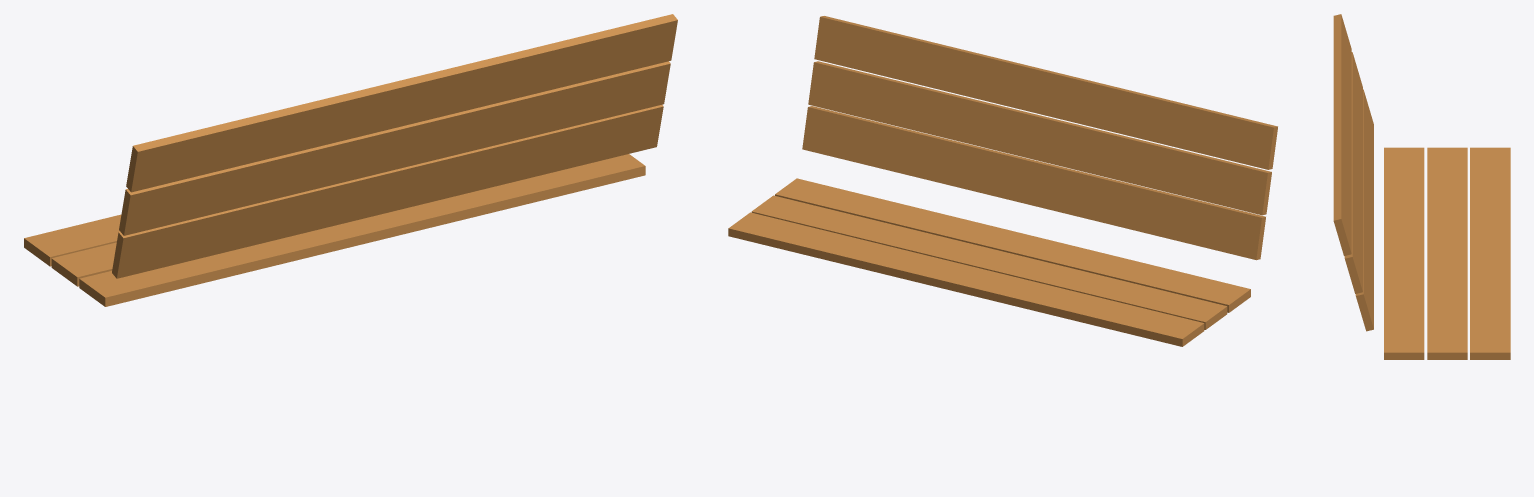
The model's file is bench.fbx.
The picture shows the model from 3 angles, left to right: view 1: azimuth 30°, elevation 25°; view 2: azimuth 150°, elevation 25°; view 3: azimuth 270°, elevation 25°; orthographic projection. The views are drawn at different scales.
Parts seen in each view (by area): view 1: Box019; view 2: Box019; view 3: Box019.
Boxes of the visible parts, x1,y1,x2,y2 form: Box019: (24, 14, 677, 306); Box019: (728, 16, 1277, 346); Box019: (1333, 14, 1510, 359).
Bounding box in the file's own units: 12.16 × 7.17 × 4.99.
